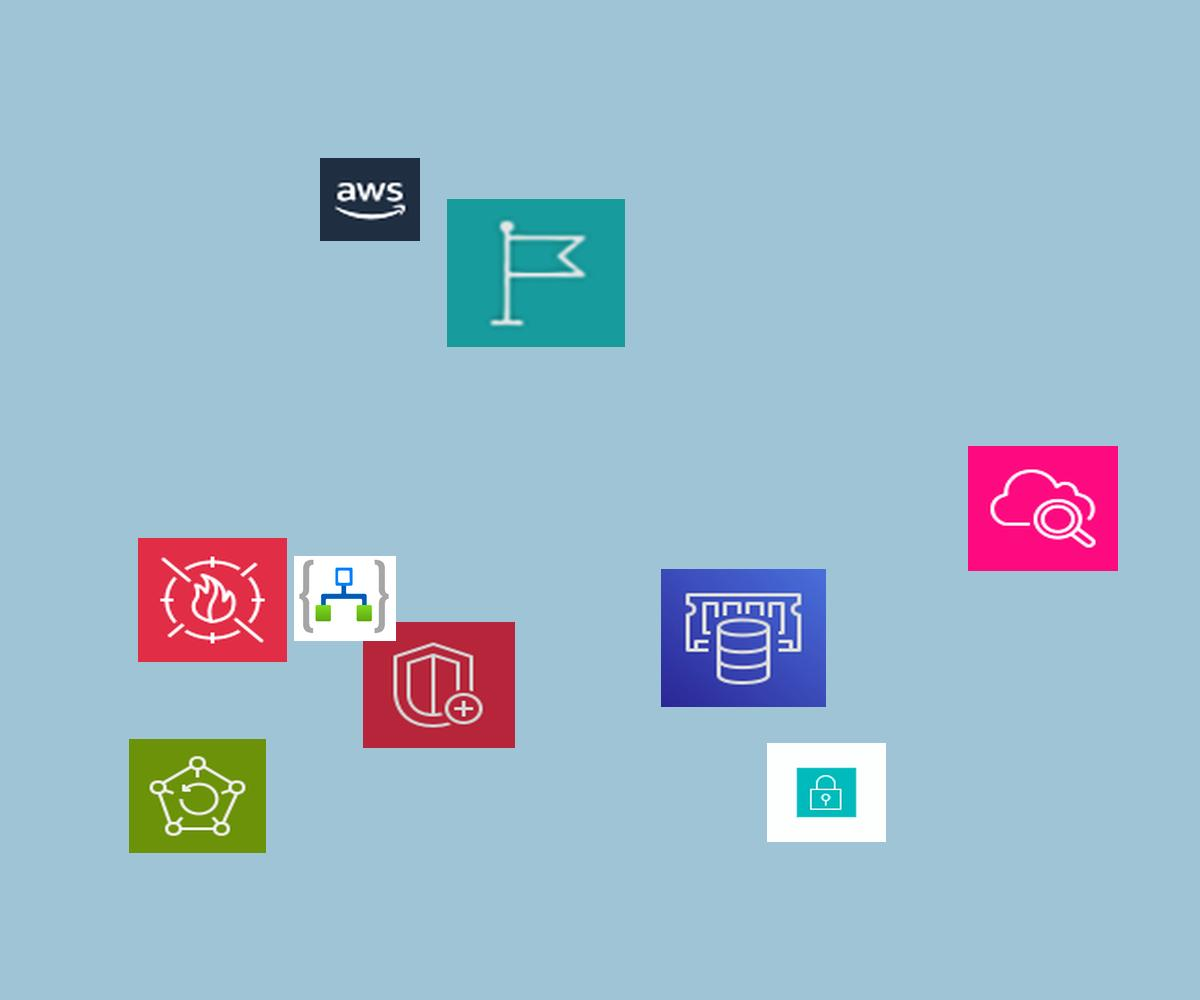AWS-Backup: (129, 739, 266, 853)
AWS-Cloud-logo: (320, 158, 420, 241)
AWS-CloudWatch: (968, 446, 1118, 571)
AWS-ElastiCache: (661, 569, 826, 707)
AWS-Private-subnet: (767, 743, 886, 842)
AWS-Region: (447, 199, 625, 347)
AWS-Shield: (363, 622, 515, 748)
AWS-WAF: (138, 538, 287, 662)
Azure_integration-204-Logic-Apps: (294, 556, 396, 641)
